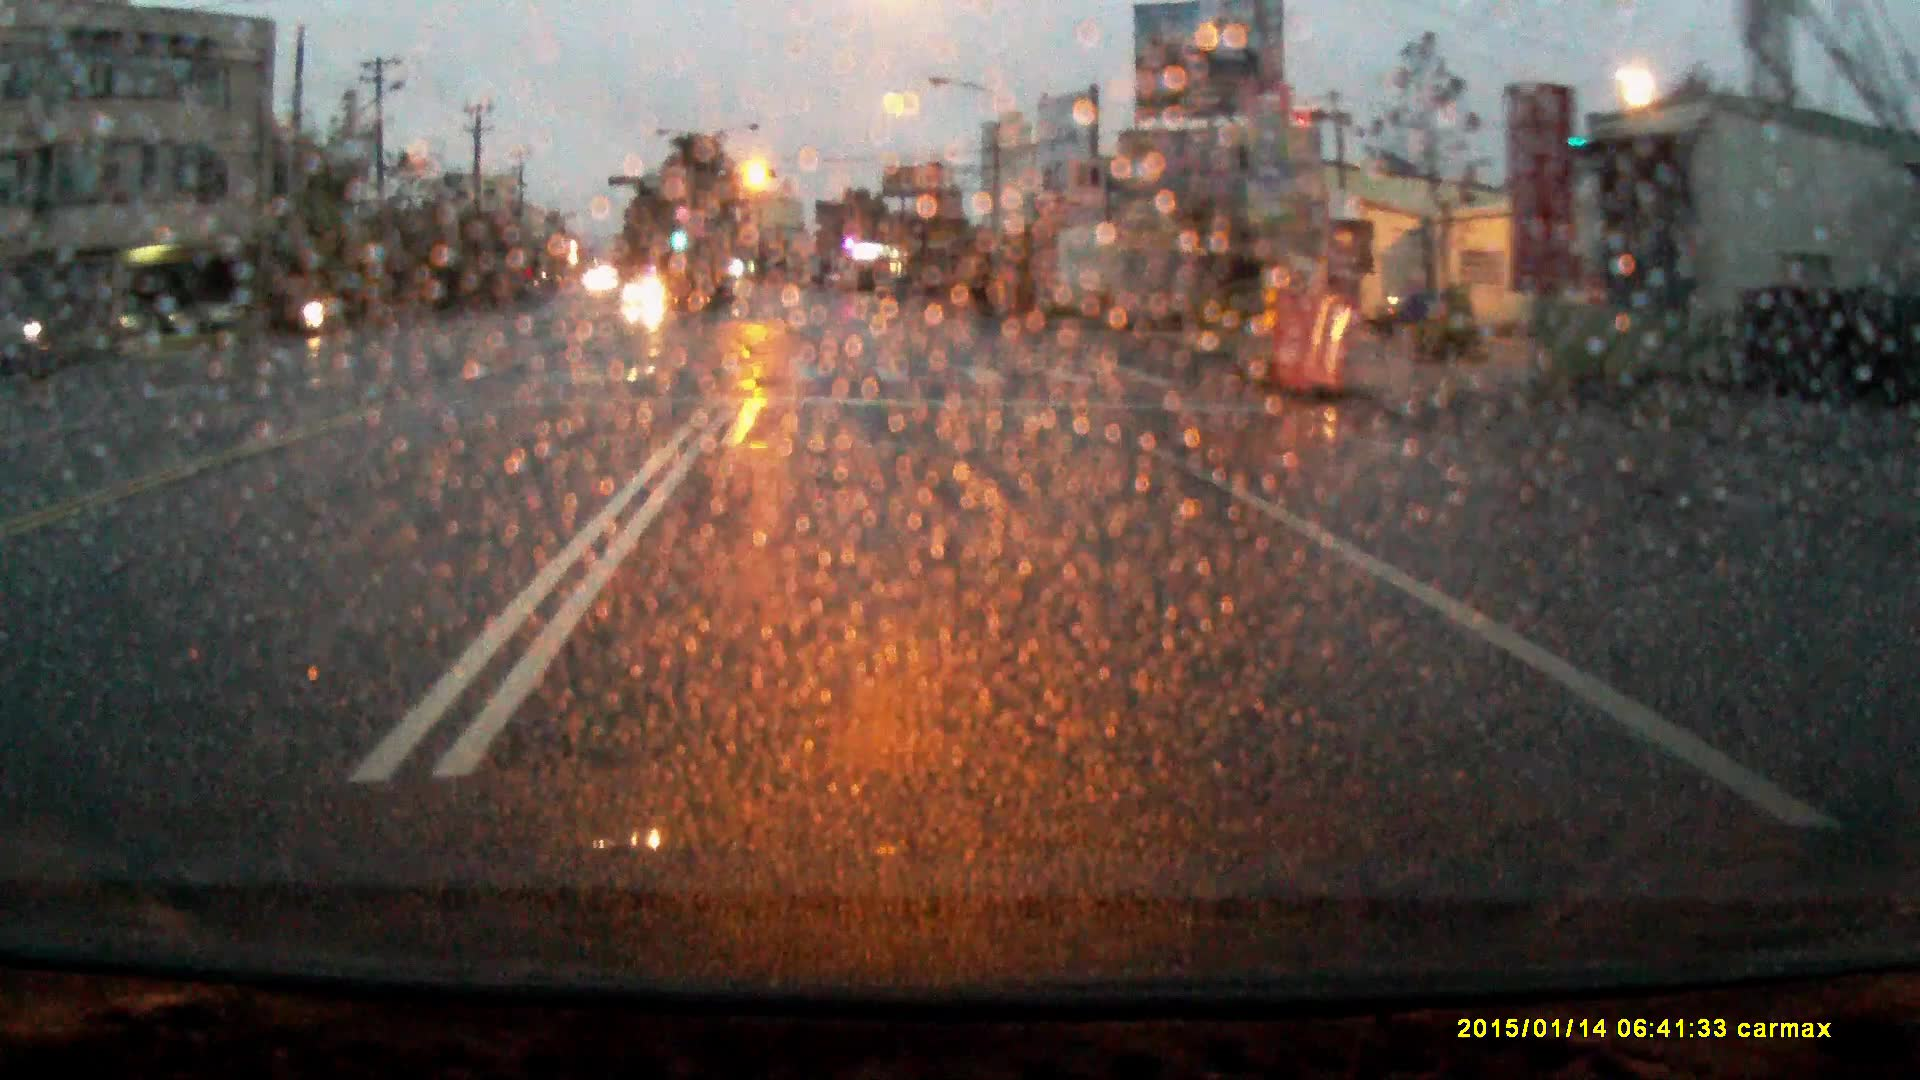rider: (300, 268, 334, 346)
vehicle: (625, 277, 667, 306)
